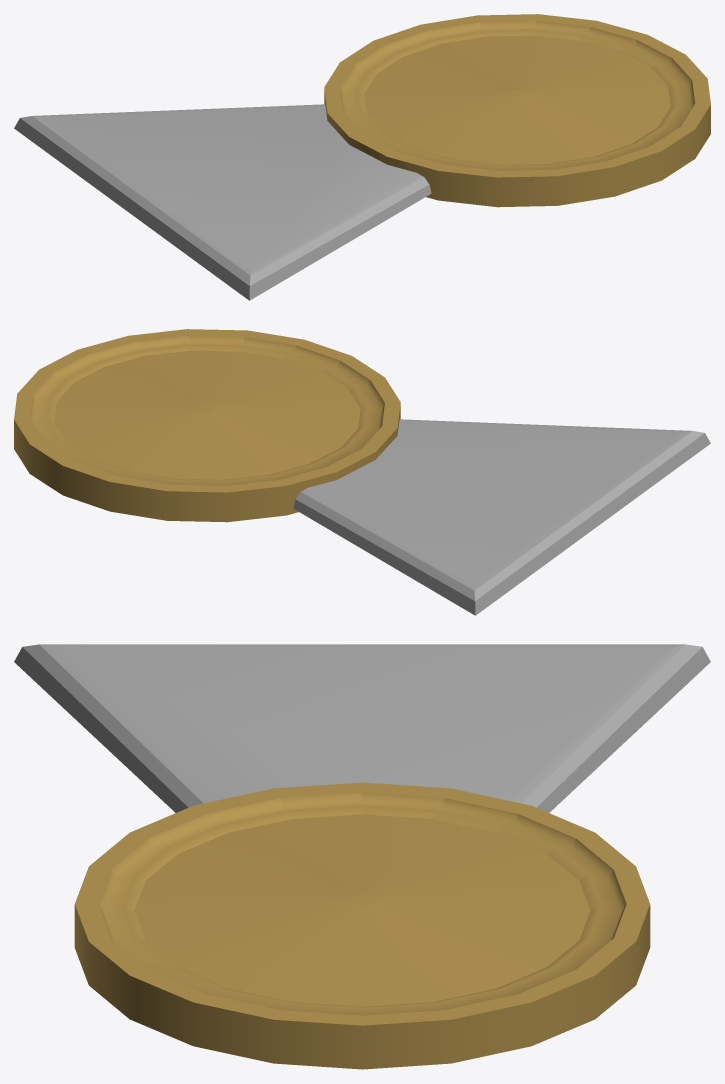
Rendered from Medal.fbx.
3 views of the same model, one above another, from view 1: azimuth 30°, elevation 25°; view 2: azimuth 150°, elevation 25°; view 3: azimuth 270°, elevation 25° (orthographic). The views are drawn at different scales.
Visible parts, largest first — view 1: polySurface4; view 2: polySurface4; view 3: polySurface4.
Boxes of the visible parts, <box> form: polySurface4: <box>14,14,710,300</box>; polySurface4: <box>14,329,710,615</box>; polySurface4: <box>14,644,710,1069</box>.
Size of the model in its own units: 329 by 18.28 by 242.
